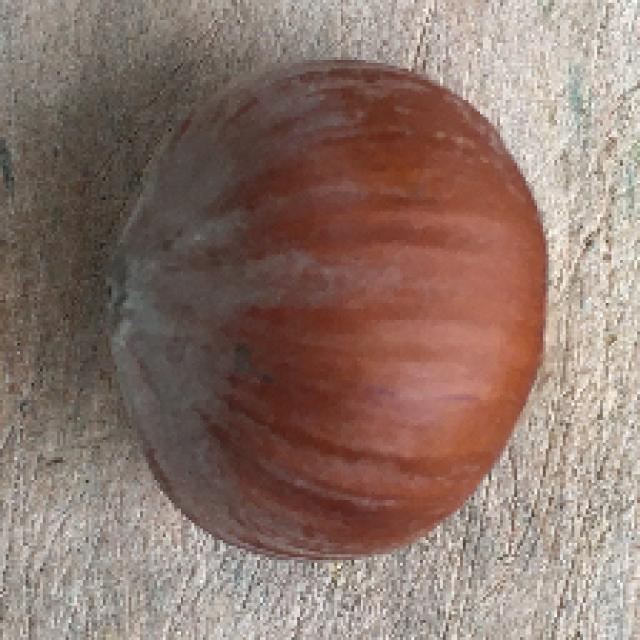qualityHazelnut: (92, 53, 558, 563)
